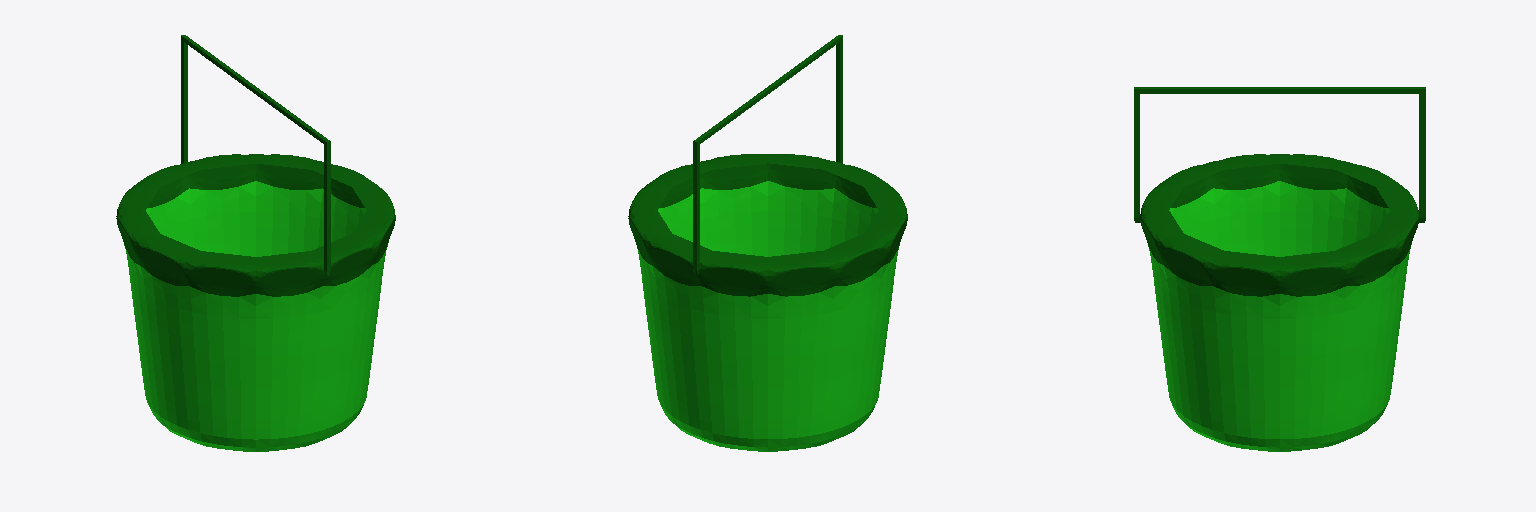
Rendered from bucket.obj.
3 views of the same model, side by side, from view 1: azimuth 30°, elevation 25°; view 2: azimuth 150°, elevation 25°; view 3: azimuth 270°, elevation 25° (orthographic).
Parts seen in each view (by area): view 1: pCylinder1; view 2: pCylinder1; view 3: pCylinder1.
Part boxes in pixels (left/top/right/bottom): pCylinder1: left=116, top=35, right=395, bottom=451; pCylinder1: left=628, top=35, right=907, bottom=451; pCylinder1: left=1134, top=87, right=1425, bottom=451.
Size of the model in its own units: 7.21 by 9.56 by 7.52.